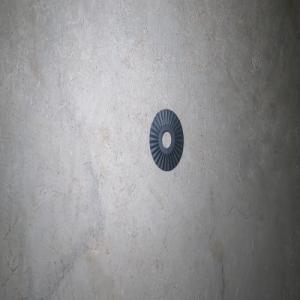Washer: (149, 108, 183, 171)
